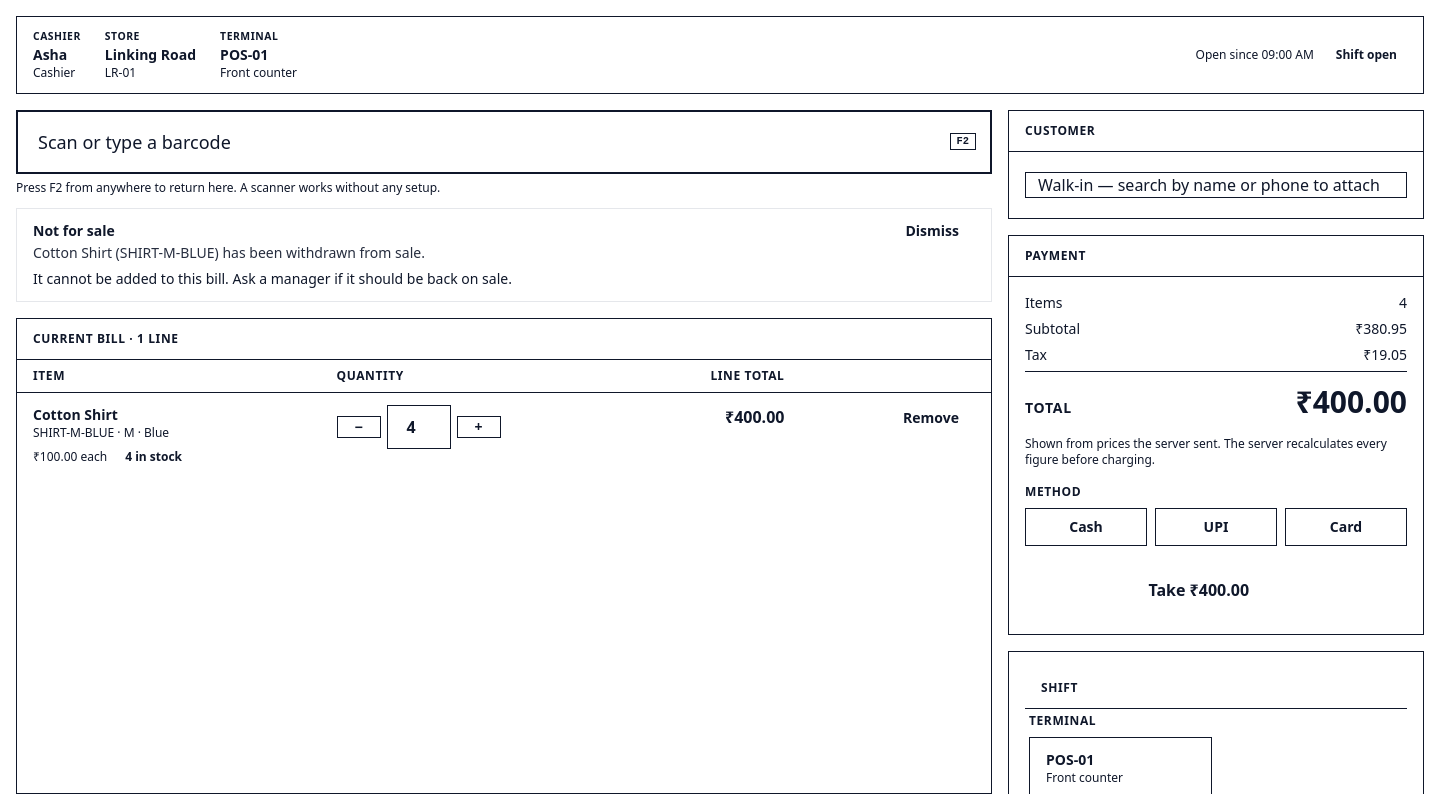
Test case: scan failures kept apart › reports a missing barcode only for a 404
Type "0000000000000" into the field labelled "Scan or type a barcode" at (504, 142), box [16,110,992,174]
Then press Enter
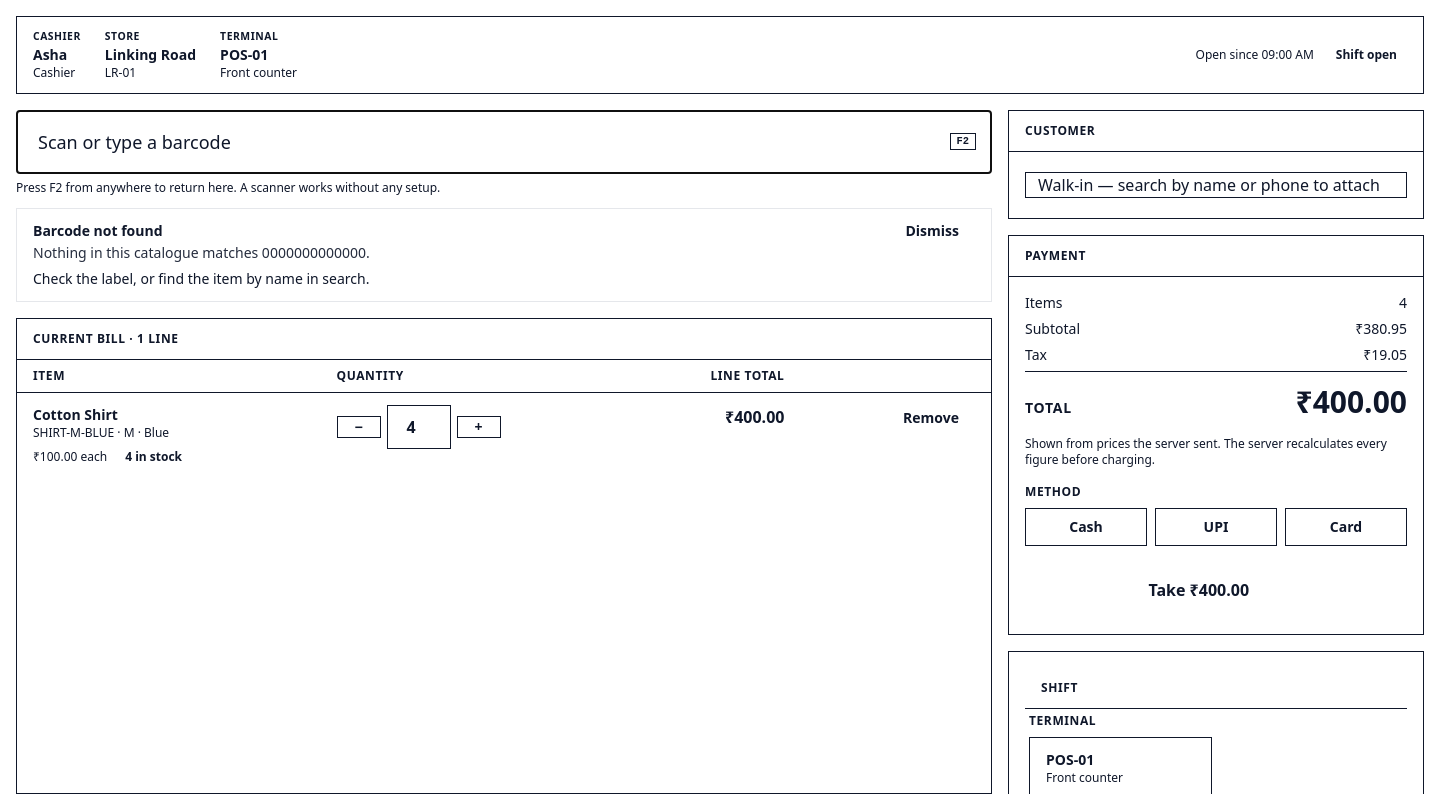
Expected: the message shows "Barcode not found", [33,221,162,240]
Expected: the message shows "0000000000000", [33,243,370,262]
